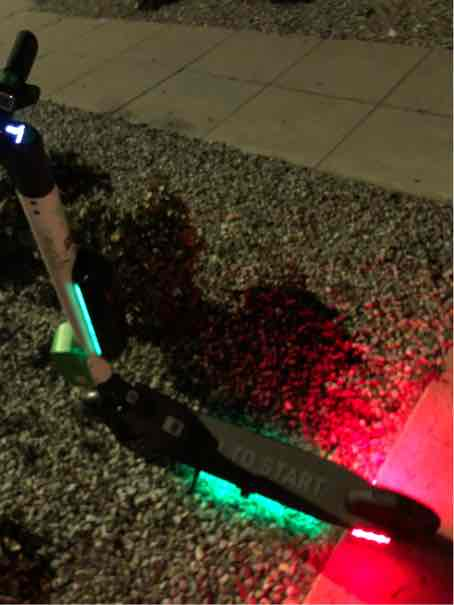scooter: (9, 31, 441, 598)
